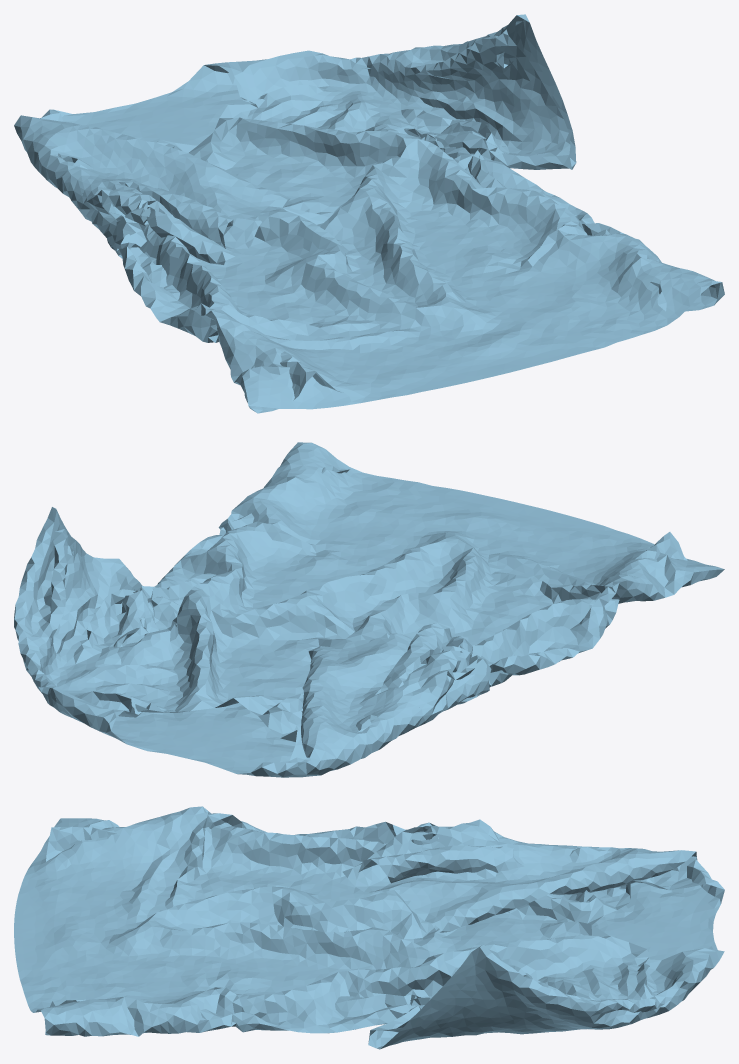
Rendered from frame_05.glb.
3 views of the same model, one above another, from view 1: azimuth 30°, elevation 25°; view 2: azimuth 150°, elevation 25°; view 3: azimuth 270°, elevation 25° (orthographic). The views are drawn at different scales.
Visible parts, largest first — view 1: frame_05.obj; view 2: frame_05.obj; view 3: frame_05.obj.
Part boxes in pixels (x1,y1,x2,y2): frame_05.obj: [14, 14, 724, 413]; frame_05.obj: [14, 442, 724, 777]; frame_05.obj: [14, 806, 724, 1049].
Size of the model in its own units: 1.31 by 0.3005 by 1.69.
